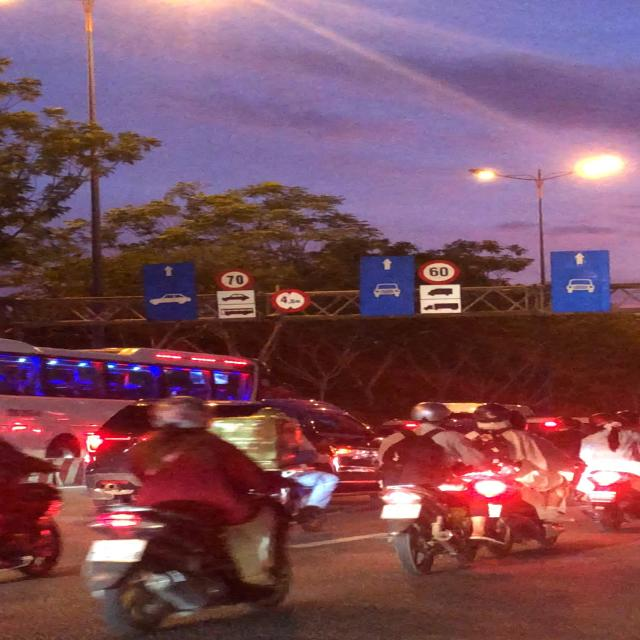Bien bao han che chieu cao: (268, 288, 314, 316)
Bien bao toc do toi da cho phep: (415, 259, 466, 286), (209, 267, 253, 292)
